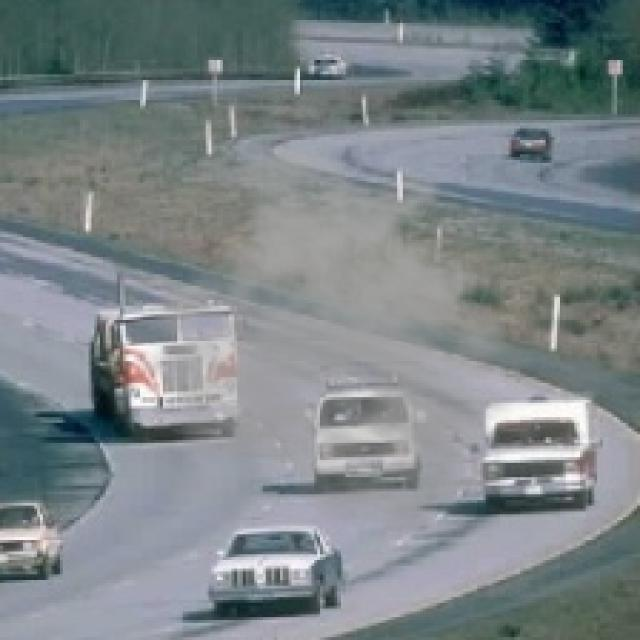smoke: (129, 140, 554, 537)
